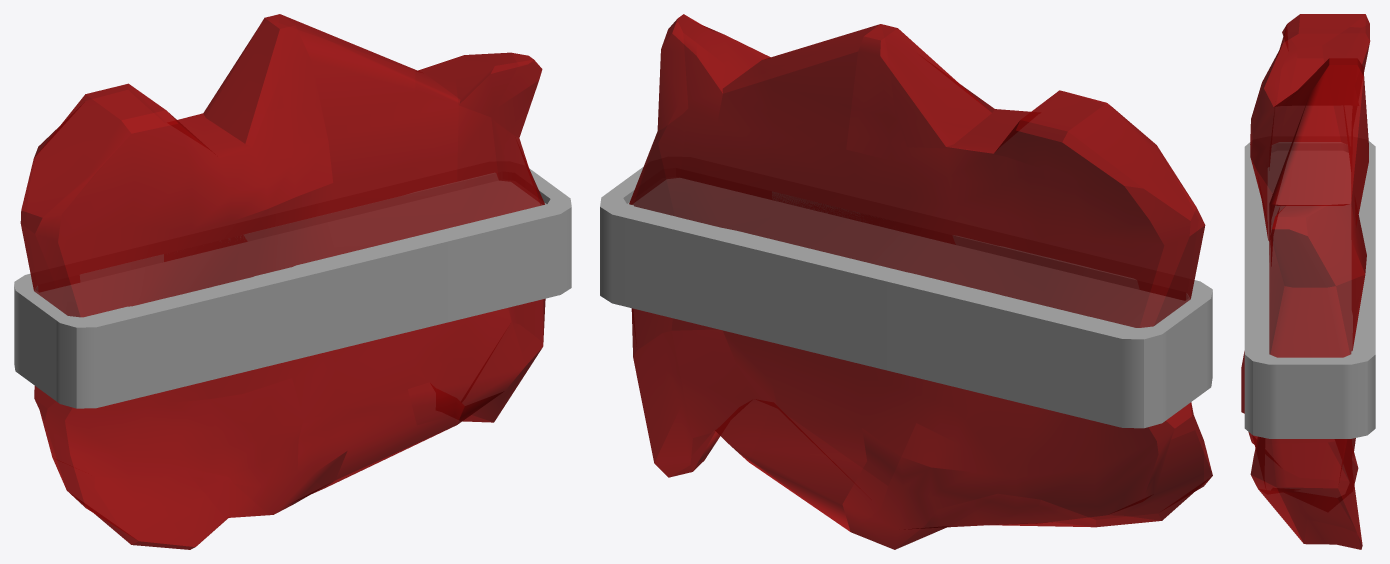
The model's file is CrystalBarrier.fbx.
3 views of the same model, side by side, from view 1: azimuth 30°, elevation 25°; view 2: azimuth 150°, elevation 25°; view 3: azimuth 270°, elevation 25° (orthographic). The views are drawn at different scales.
Visible parts, largest first — view 1: Crystal_Barrier; view 2: Crystal_Barrier; view 3: Crystal_Barrier.
Part boxes in pixels (x1,y1,x2,y2): Crystal_Barrier: (14,14,571,549); Crystal_Barrier: (600,14,1212,549); Crystal_Barrier: (1241,14,1375,549).
Bounding box in the file's own units: 67.29 × 57.47 × 16.44.
